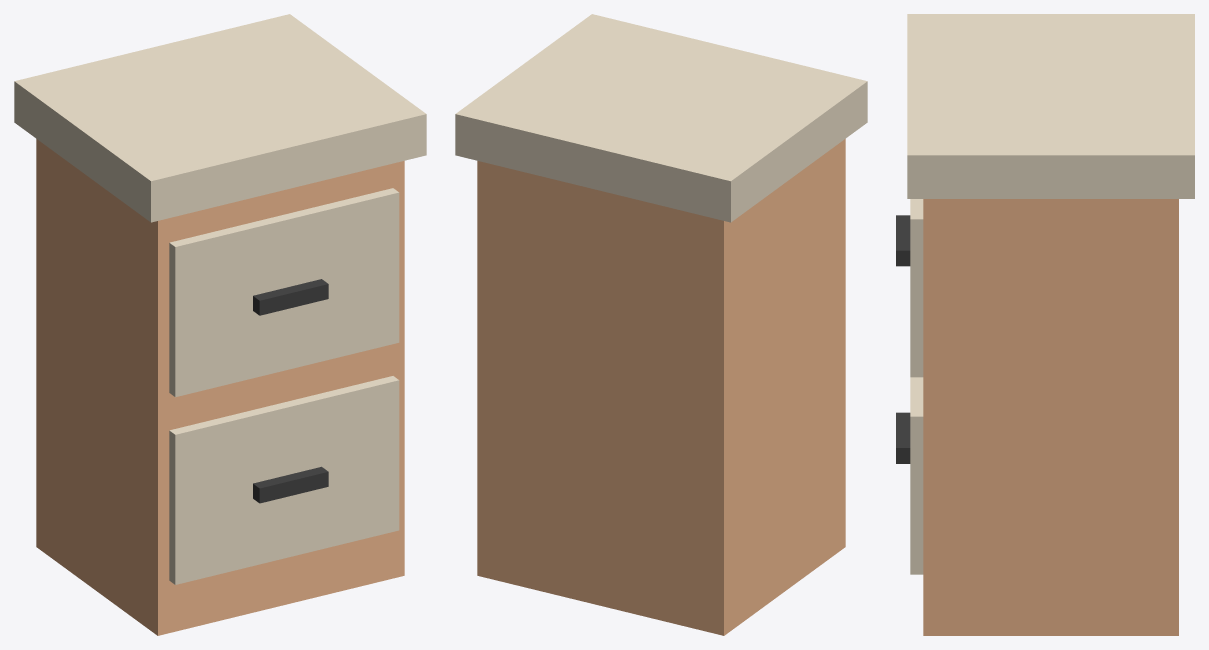
3 renders of one model, left to right at view 1: azimuth 30°, elevation 25°; view 2: azimuth 150°, elevation 25°; view 3: azimuth 270°, elevation 25°, orthographic. The views are drawn at different scales.
Visible parts, largest first — view 1: Body, Top, Drawer.001, Drawer, Grip, Grip.001; view 2: Body, Top; view 3: Body, Top, Drawer, Drawer.001, Grip, Grip.001.
Boxes of the visible parts, bbox=[...] form: Body: bbox=[36, 139, 404, 635]; Top: bbox=[14, 14, 426, 222]; Drawer.001: bbox=[169, 188, 399, 397]; Drawer: bbox=[169, 376, 399, 584]; Grip: bbox=[253, 466, 328, 503]; Grip.001: bbox=[253, 279, 328, 315]; Body: bbox=[477, 139, 845, 635]; Top: bbox=[455, 14, 867, 222]; Body: bbox=[923, 199, 1178, 635]; Top: bbox=[907, 14, 1194, 198]; Drawer: bbox=[910, 377, 923, 574]; Drawer.001: bbox=[910, 199, 923, 377]; Grip: bbox=[896, 412, 910, 463]; Grip.001: bbox=[896, 215, 910, 266].
Bounding box in the file's own units: 0.576 × 0.9262 × 0.5142.
Materials: 1 (1 with a texture image).
